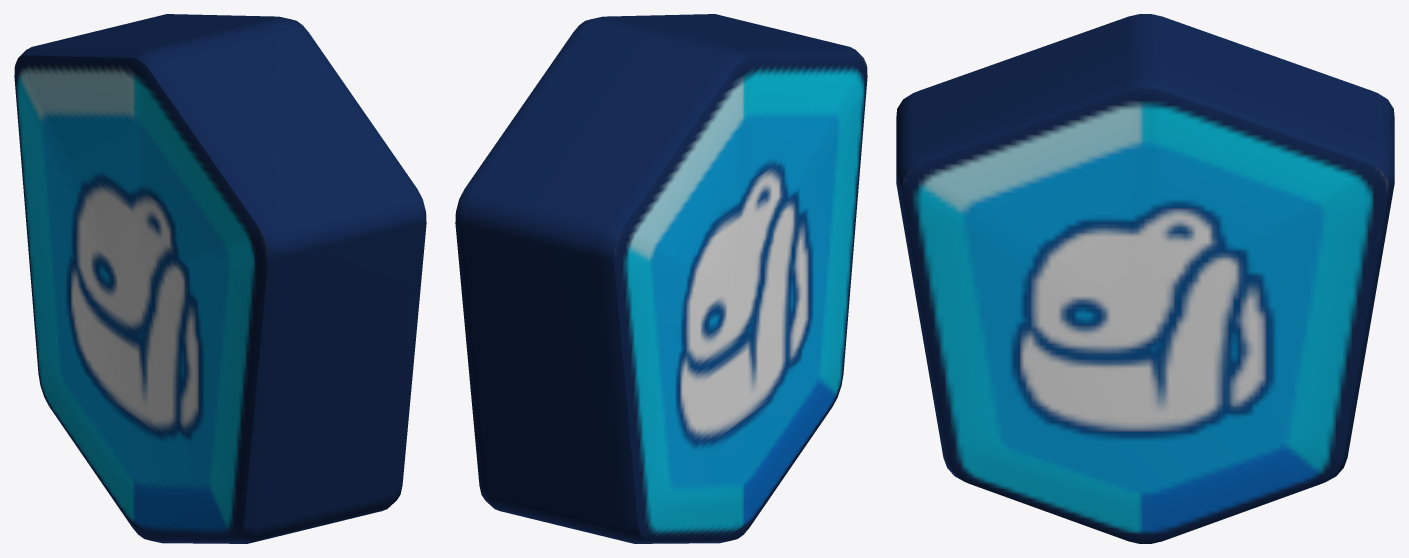
File: item.fbx
3 views of the same model, side by side, from view 1: azimuth 30°, elevation 25°; view 2: azimuth 150°, elevation 25°; view 3: azimuth 270°, elevation 25° (orthographic). The views are drawn at different scales.
Visible parts, largest first — view 1: item_bag; view 2: item_bag; view 3: item_bag.
Boxes of the visible parts, <box> form: item_bag: <box>14,14,426,543</box>; item_bag: <box>455,14,867,543</box>; item_bag: <box>896,14,1394,543</box>.
Size of the model in its own units: 1 by 2.76 by 2.67.
